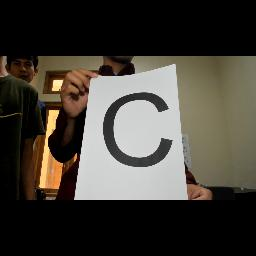c: (102, 90, 174, 172)
